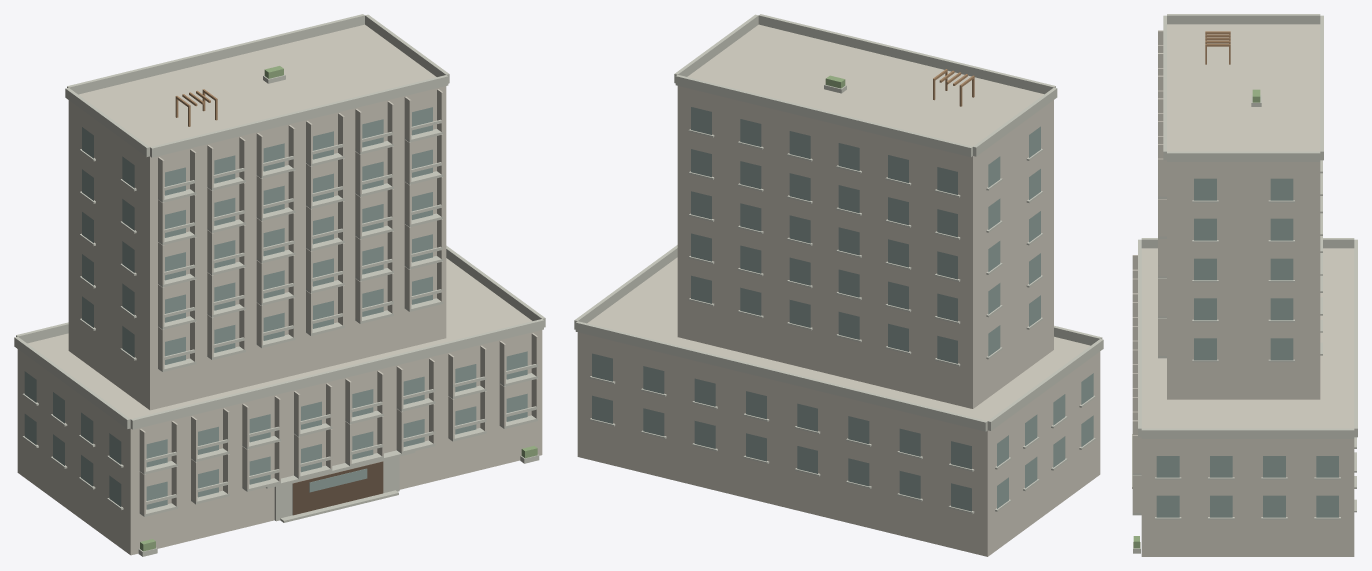
Rendered from residential_4x2_b.glb.
The picture shows the model from 3 angles, left to right: view 1: azimuth 30°, elevation 25°; view 2: azimuth 150°, elevation 25°; view 3: azimuth 270°, elevation 25°; orthographic projection. The views are drawn at different scales.
Visible parts, largest first — view 1: residential_4x2_b_0; view 2: residential_4x2_b_0; view 3: residential_4x2_b_0.
Boxes of the visible parts, x1,y1,x2,y2 form: residential_4x2_b_0: (14, 14, 545, 556); residential_4x2_b_0: (574, 14, 1103, 556); residential_4x2_b_0: (1132, 14, 1357, 556).
Bounding box in the file's own units: 31 × 28.5 × 15.4.
